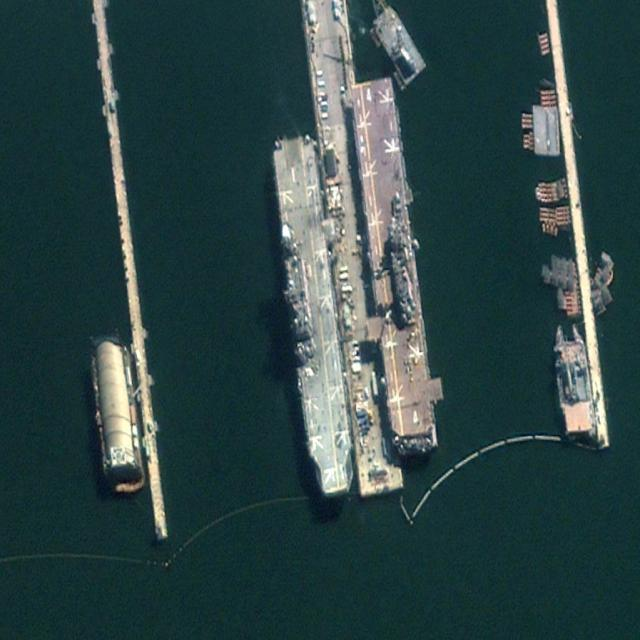Landing: (345, 72, 449, 458), (268, 127, 358, 500)
Other Ship: (551, 320, 597, 439)
